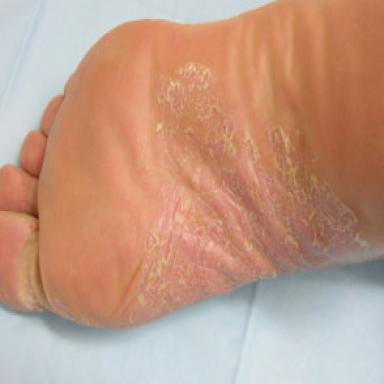eczema: (125, 62, 369, 324)
